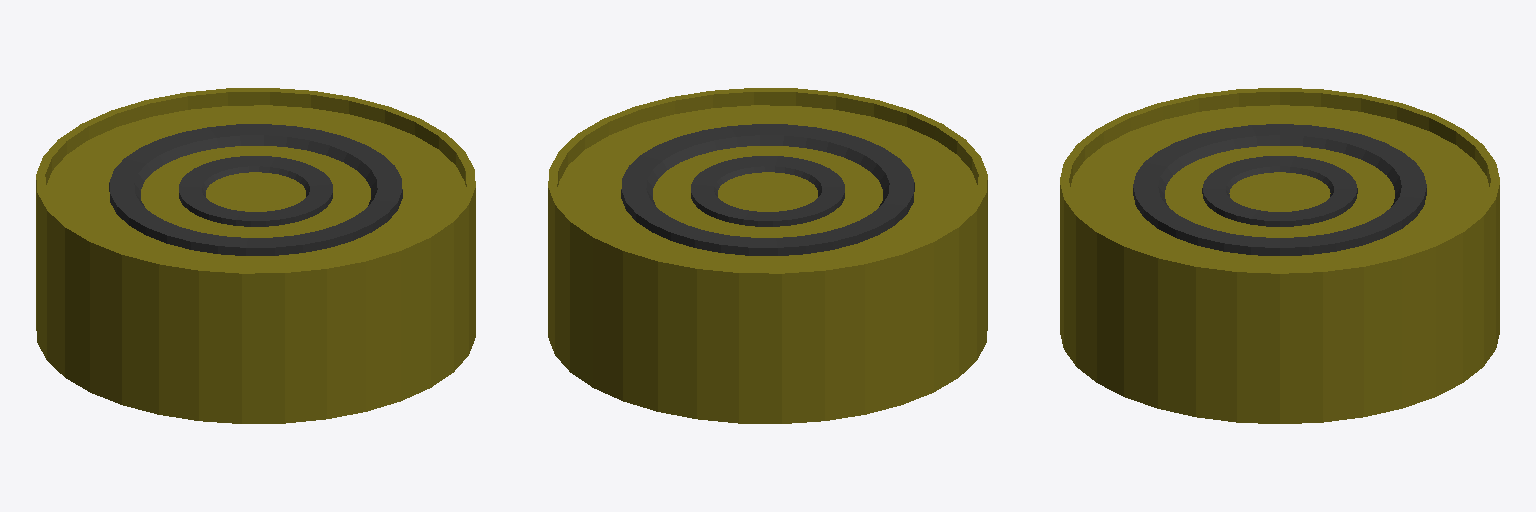
Rendered from black.obj.
3 renders of one model, left to right at view 1: azimuth 30°, elevation 25°; view 2: azimuth 150°, elevation 25°; view 3: azimuth 270°, elevation 25°, orthographic.
Visible parts, largest first — view 1: Cylinder_Cylinder.001, Cylinder.001_Cylinder.002, Cylinder.002_Cylinder.004; view 2: Cylinder_Cylinder.001, Cylinder.001_Cylinder.002, Cylinder.002_Cylinder.004; view 3: Cylinder_Cylinder.001, Cylinder.001_Cylinder.002, Cylinder.002_Cylinder.004.
Boxes of the visible parts, box(x1,y1,x2,y2) form: Cylinder_Cylinder.001: box(36, 88, 475, 423); Cylinder.001_Cylinder.002: box(109, 124, 402, 255); Cylinder.002_Cylinder.004: box(179, 156, 332, 226); Cylinder_Cylinder.001: box(548, 88, 987, 423); Cylinder.001_Cylinder.002: box(621, 124, 914, 255); Cylinder.002_Cylinder.004: box(691, 156, 844, 226); Cylinder_Cylinder.001: box(1060, 88, 1499, 423); Cylinder.001_Cylinder.002: box(1133, 124, 1426, 255); Cylinder.002_Cylinder.004: box(1202, 156, 1357, 226).
Size of the model in its own units: 0.15 by 0.0565 by 0.15.